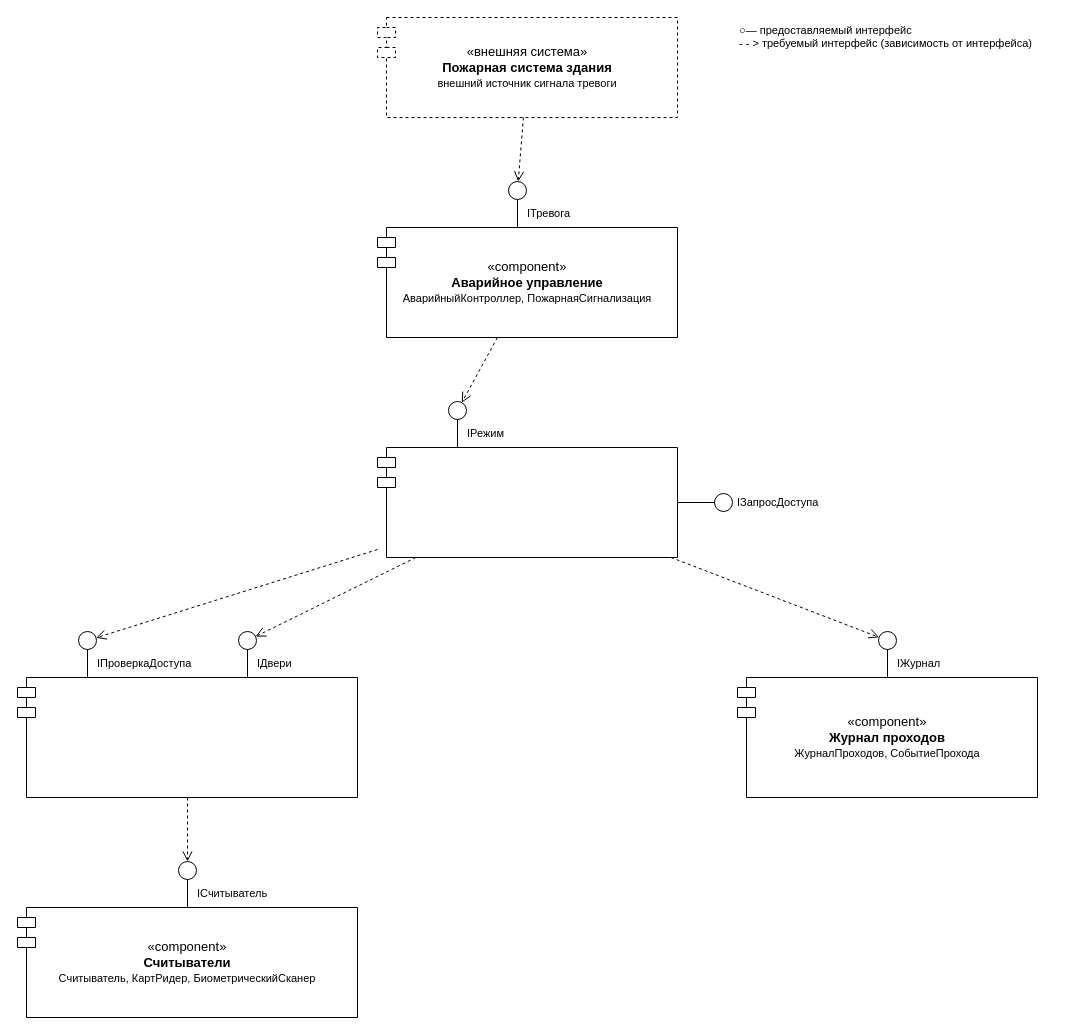
Image size: 1083x1035. Some labels were removed from this diagram. Here are the shapes that lost their labels. From the top down, the centre of each, then its label:
At (x=527, y=502): "«component» Контроллер доступа Контроллер".
At (x=187, y=737): "«component» Доступ Сотрудник, Пропуск, Зона, Расписание, Дверь".
